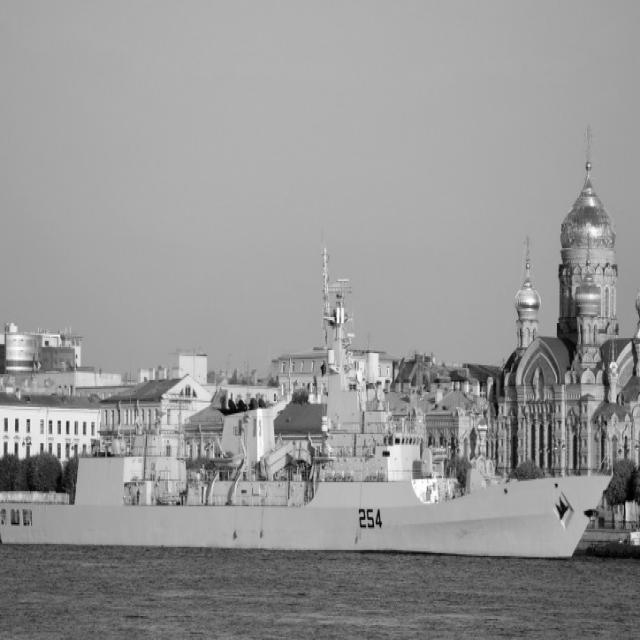Fragata: (1, 235, 615, 549)
